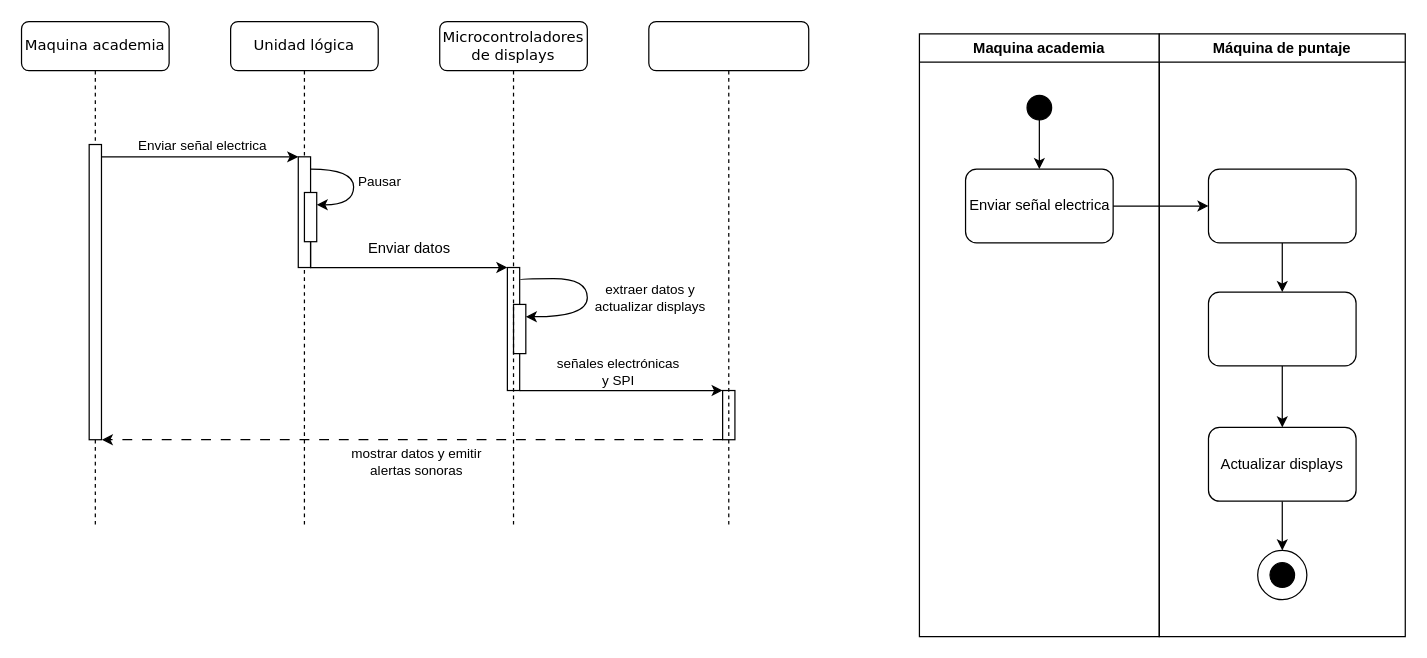
Some shapes in this 1427 by 658 pixel diagram are drawn without their labels. Each missing label, with the box of its shape:
LEDs / matrices LED / buzzer: (648, 20, 809, 526)
Pausar temporizador: (1207, 291, 1356, 366)
Recibir señal de toque (válido o inválido): (1207, 168, 1356, 243)
